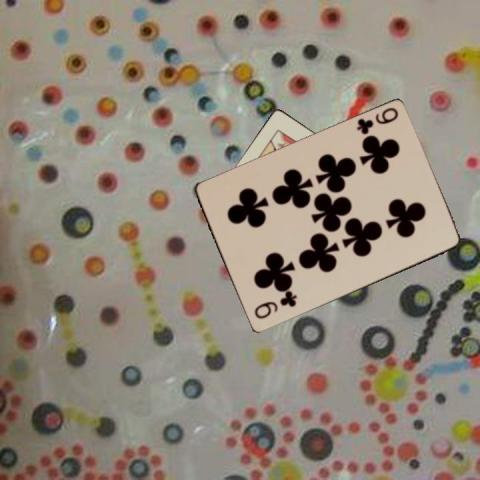9c: (354, 104, 400, 136), (251, 290, 298, 320)
